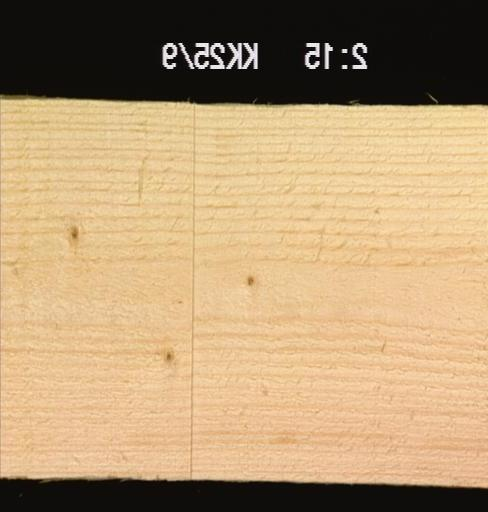small_knot: (56, 219, 87, 245), (153, 343, 178, 368), (237, 270, 262, 290)
